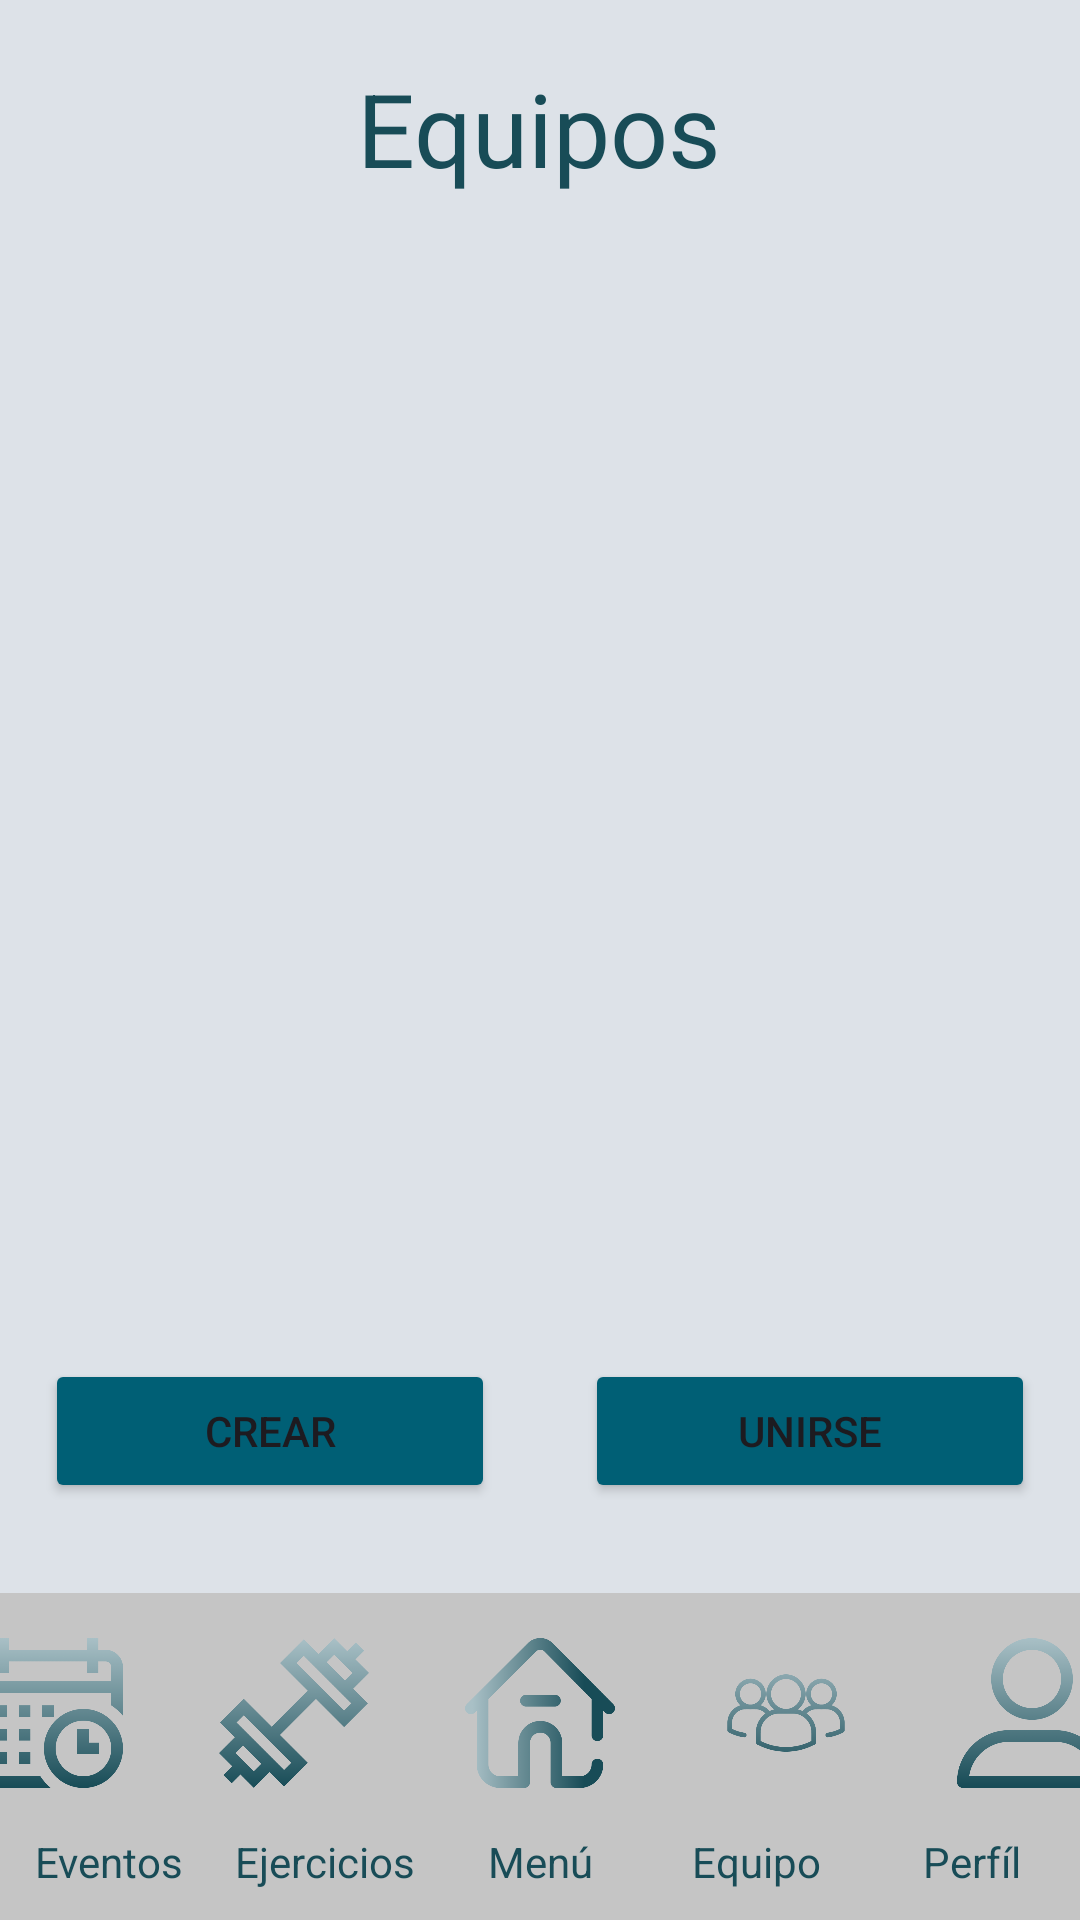

Where icons sit on this 1080×1920 app screen, as [left=x1, top=y1, right=x2, bottom=y2]:
grupo: [left=727, top=1674, right=845, bottom=1752]
pesa: [left=219, top=1639, right=369, bottom=1788]
